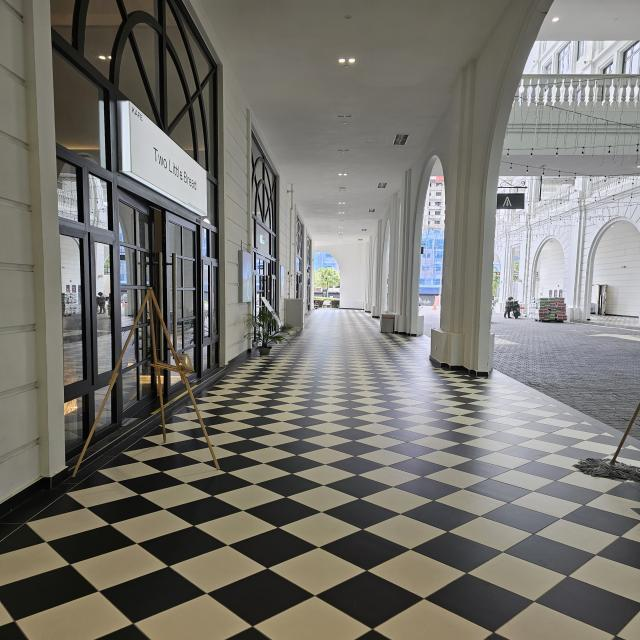footpath: (240, 367, 571, 640)
obstacle: (69, 282, 226, 474)
wall: (431, 258, 498, 376)
